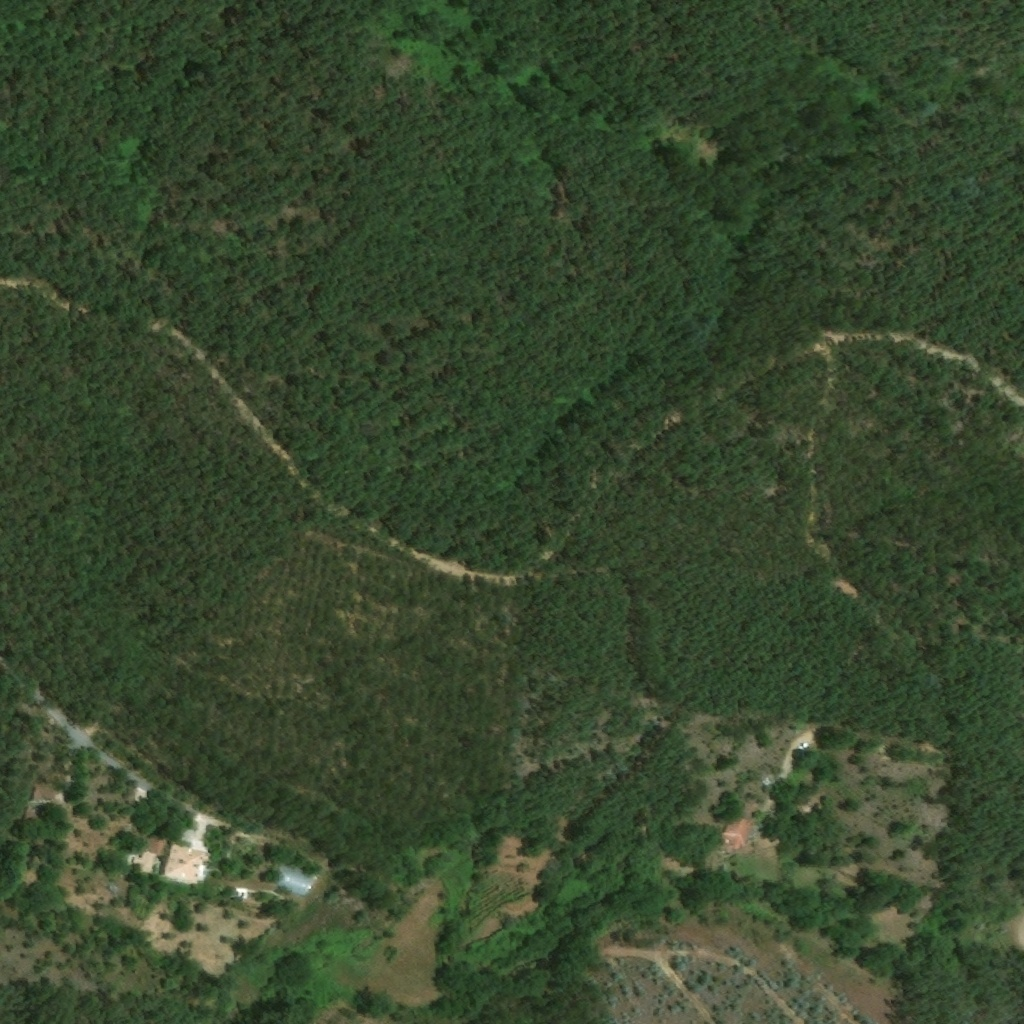0 no-damage: (162, 844, 209, 885), (272, 862, 314, 898), (126, 840, 167, 875), (718, 815, 751, 853), (28, 787, 56, 807), (23, 808, 51, 825)
